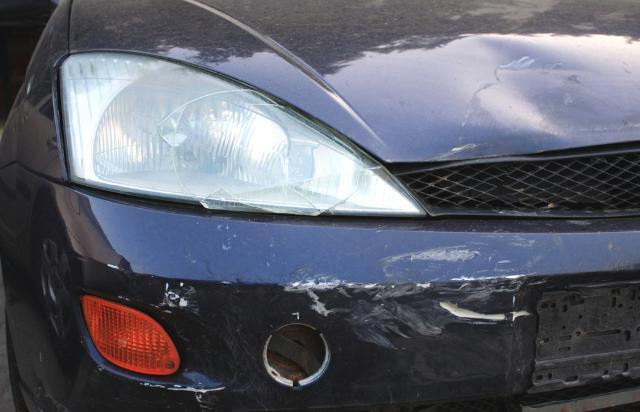dent: (461, 35, 594, 139)
lamp broken: (59, 51, 427, 218)
scratch: (286, 234, 547, 350), (141, 382, 228, 410), (156, 281, 206, 316)
